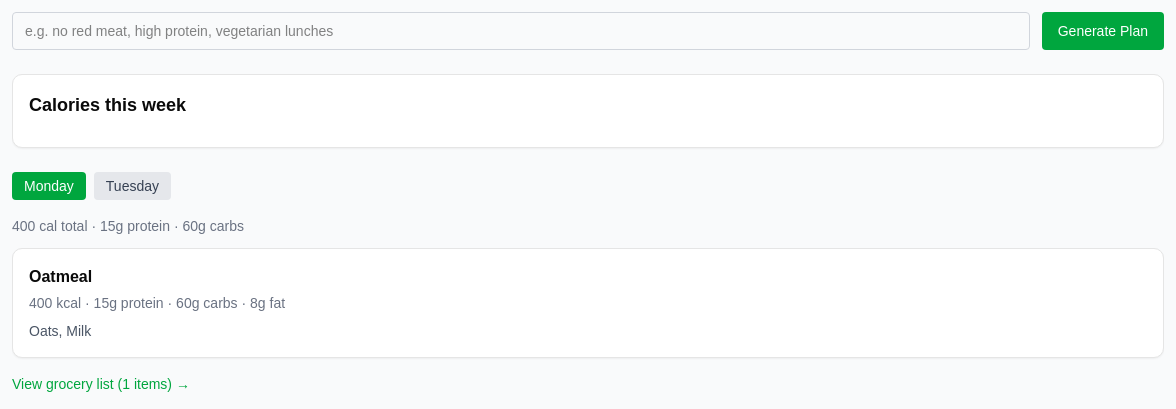
Scenario: PlanPage › switches displayed meals when a different day is selected
This screenshot has width=1176, height=409.
Expected: the link "Oatmeal" is shown, [29,268,92,285]
Click the button "Tuesday". click: (132, 186)
box: [94,172,171,200]
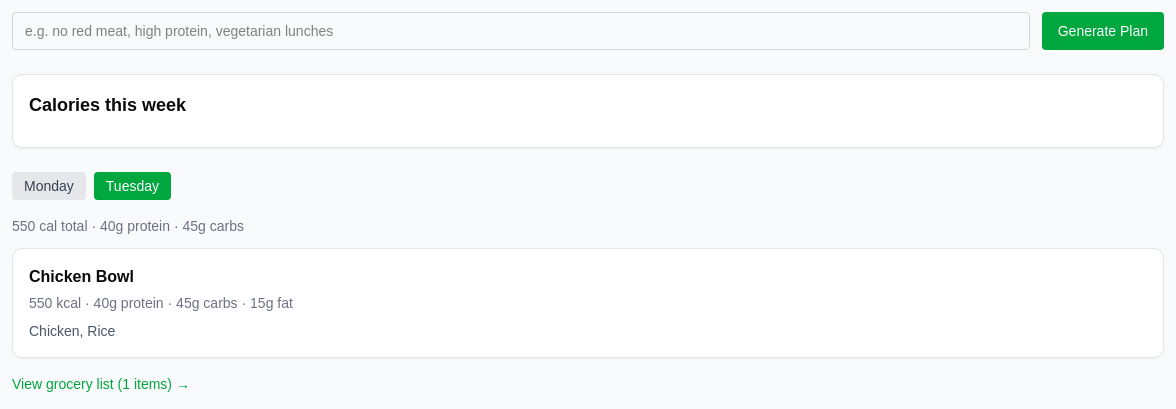
Expected: the link "Chicken Bowl" is shown, [29,268,134,285]
Expected: the link "Oatmeal" is gone
